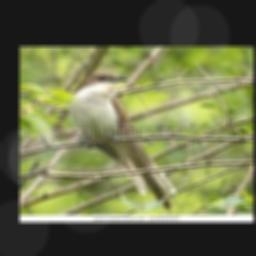Cuckoo: (69, 70, 177, 208)
